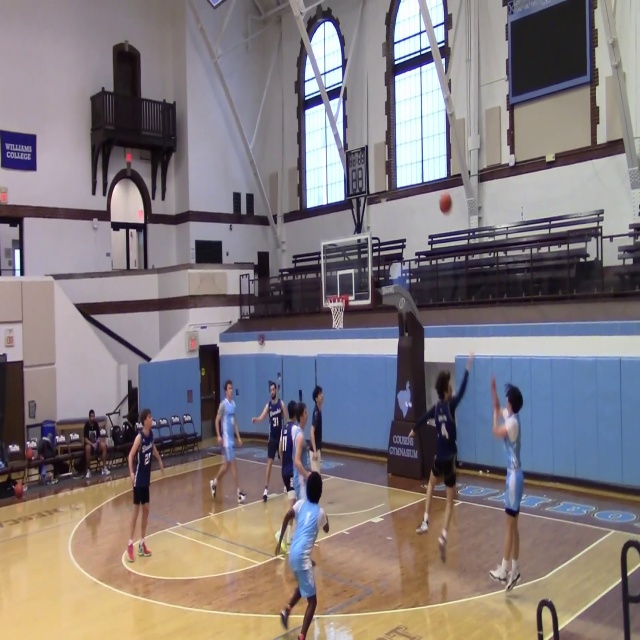Basketball: (439, 193, 452, 213), (14, 483, 24, 498), (25, 448, 33, 460)
